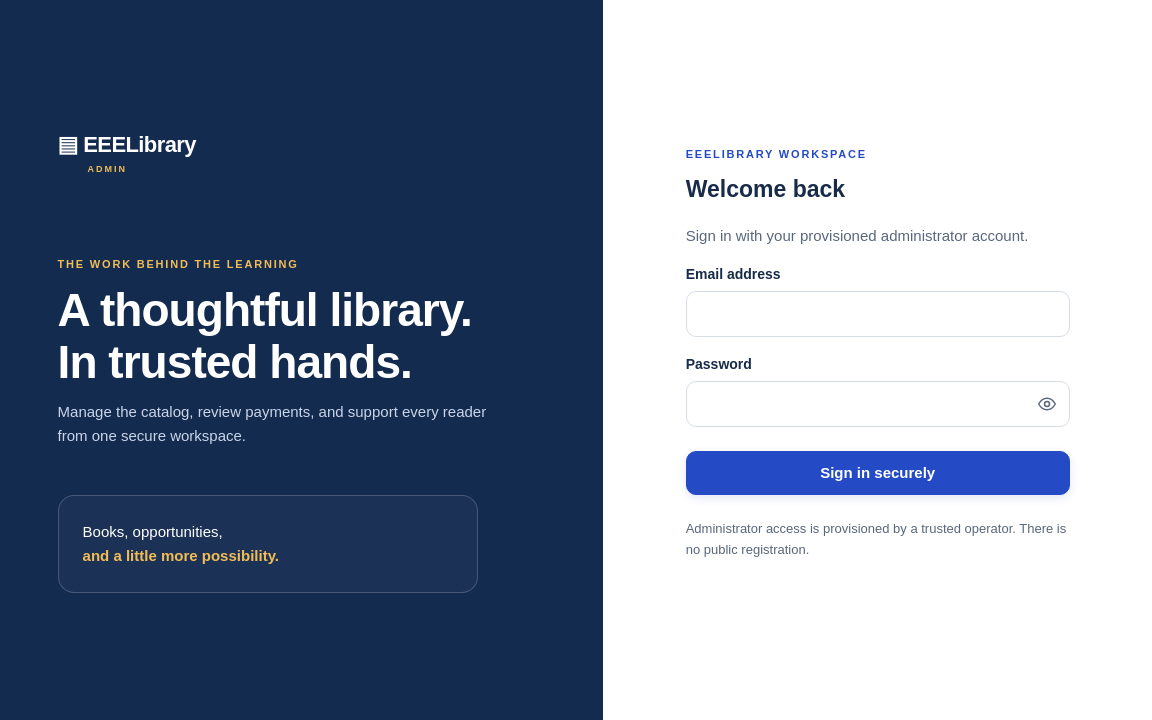
Test case: admin login feedback and password accessibility › hides by default and preserves the typed password through both toggles
The width and height of the screenshot is (1152, 720).
Type "private-fixture" into the password field labelled "Password" at x=878, y=404, box [686, 381, 1070, 427]
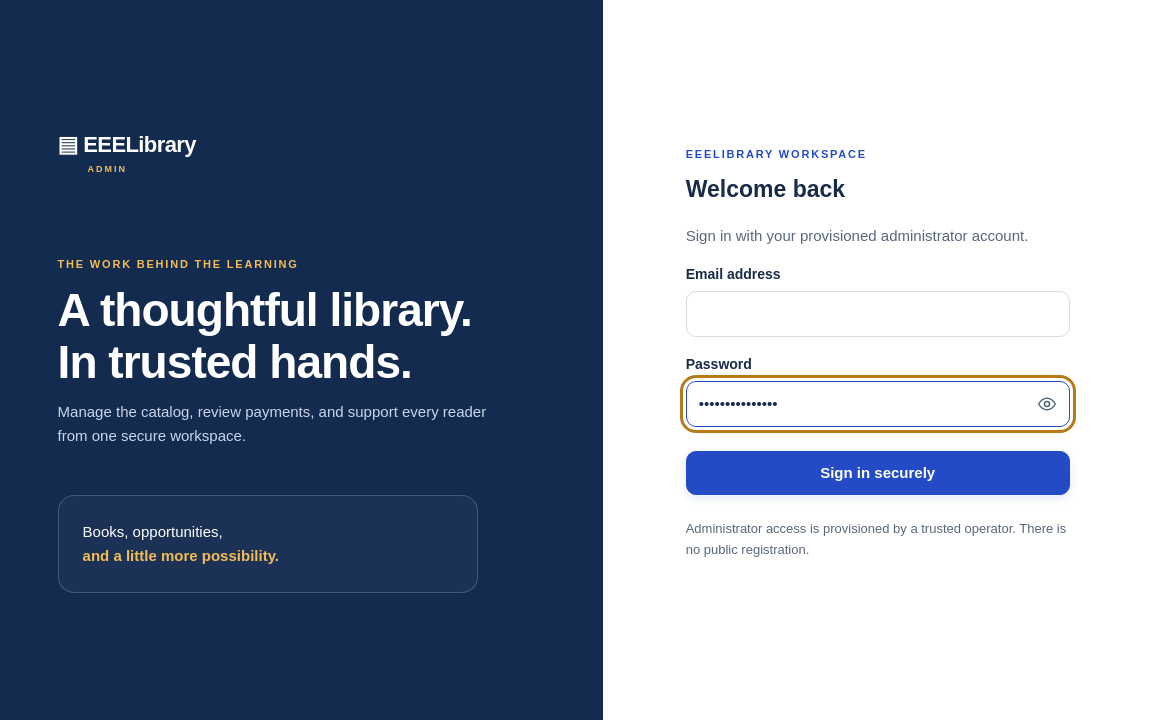
Click the button named "Show password" at x=1047, y=404, box [1025, 382, 1069, 426]
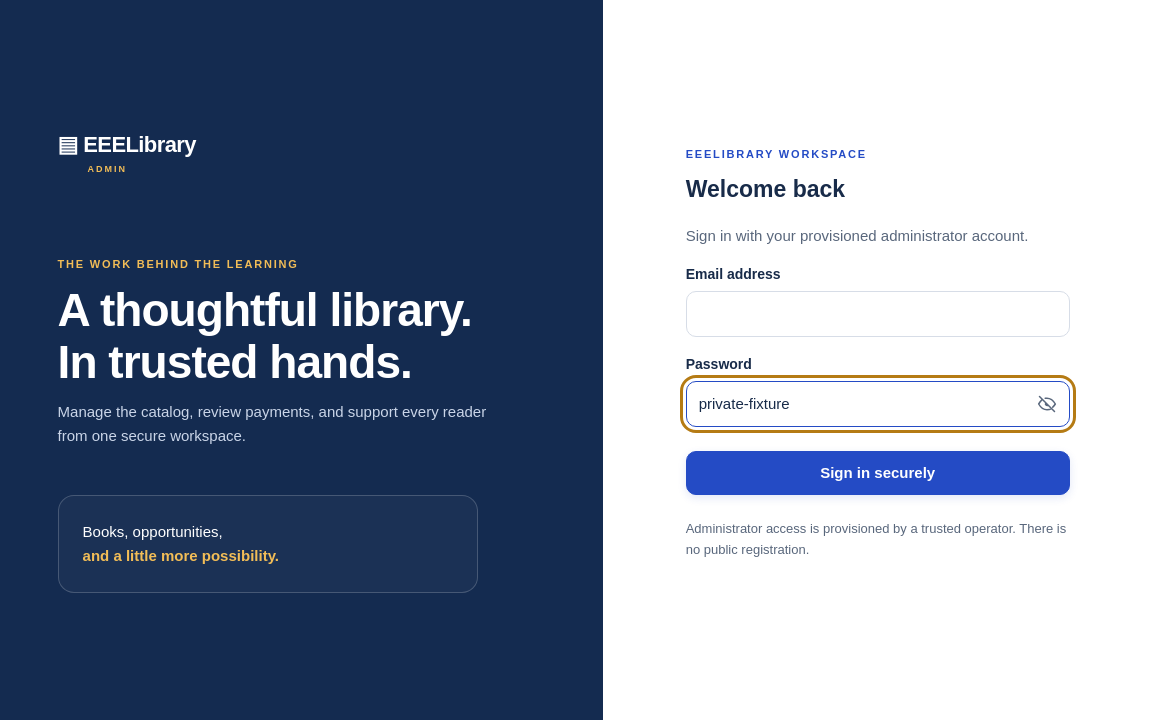
Expected: the field labelled "Password" shows its text, [686, 381, 1070, 427]
Click the button named "Hide password" at x=1047, y=404, box [1025, 382, 1069, 426]
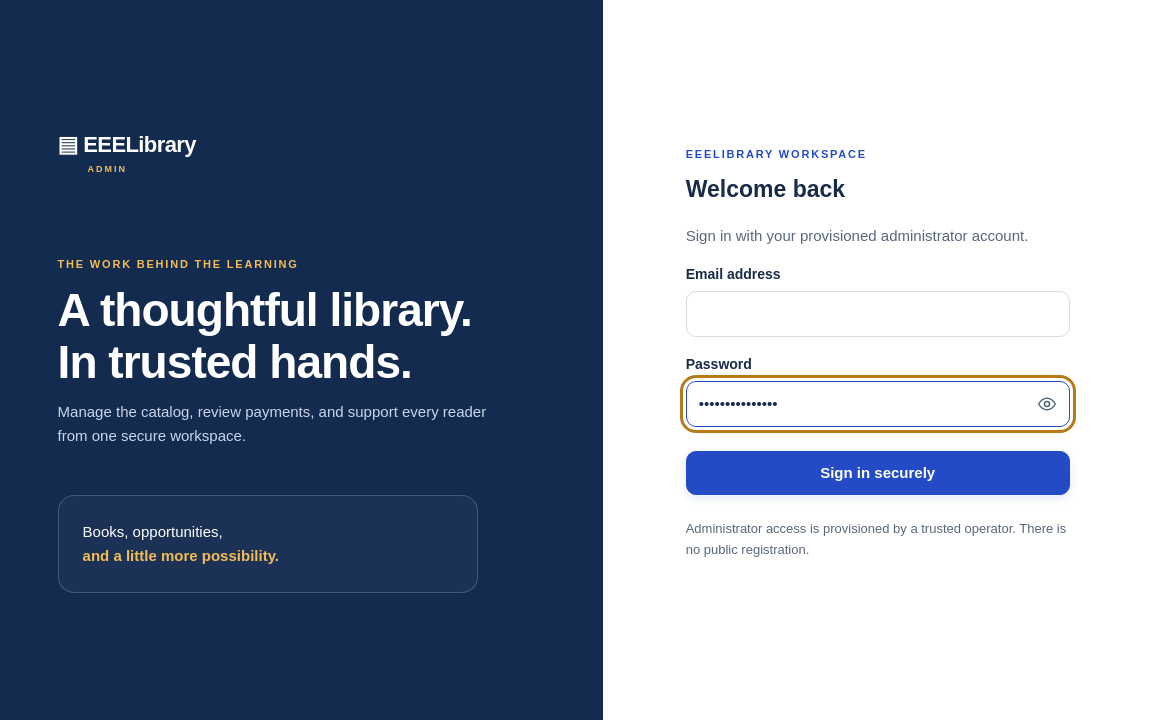
Expected: the password field labelled "Password" hides its text, [686, 381, 1070, 427]
